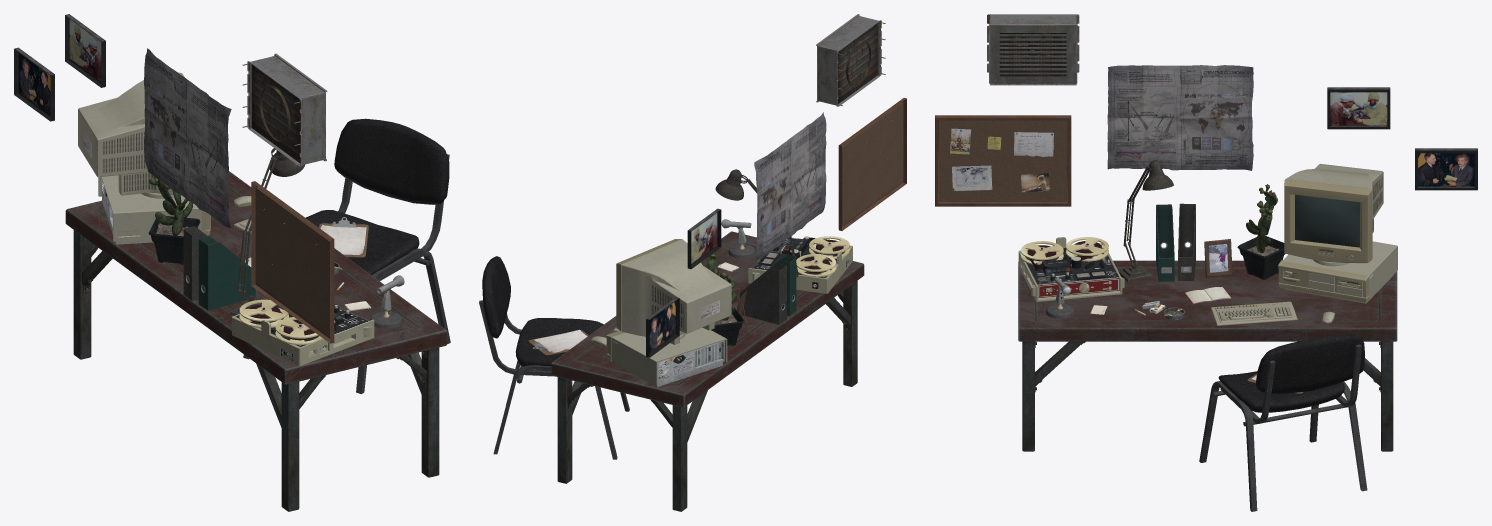
The model's file is room.glb.
3 renders of one model, left to right at view 1: azimuth 30°, elevation 25°; view 2: azimuth 150°, elevation 25°; view 3: azimuth 270°, elevation 25°, orthographic. The views are drawn at different scales.
Parts seen in each view (by area): view 1: Table_Rough_32, Chair_51, Poster_Crumpled_45, PinBoard_24, Vent_44, Monitor_6, TapeRecorder_33, Computer_5, FileBox_Green_8, PhotoFrame2_46, PhotoFrame1_47, FileBox_Black_7 (+5 smaller); view 2: Table_Rough_32, Monitor_6, Poster_Crumpled_45, PinBoard_24, Chair_51, Computer_5, Vent_44, TapeRecorder_33, FileBox_Black_7, PhotoFrame1_47, PhotoFrame2_46, FileBox_Green_8 (+4 smaller); view 3: Table_Rough_32, Poster_Crumpled_45, Chair_51, PinBoard_24, Monitor_6, TapeRecorder_33, Computer_5, PhotoFrame1_47, PhotoFrame2_46, Vent_44, Vent_Cover_Frame_43, Vent_Cover_39 (+11 smaller).
Part boxes in pixels (x1,y1,x2,y2): Table_Rough_32: (65,171,447,511); Chair_51: (243,118,450,393); Poster_Crumpled_45: (144,48,231,228); PinBoard_24: (251,181,334,343); Vent_44: (247,53,327,166); Monitor_6: (78,72,184,198); TapeRecorder_33: (232,299,374,366); Computer_5: (98,175,210,244); FileBox_Green_8: (198,235,255,310); PhotoFrame2_46: (14,47,54,121); PhotoFrame1_47: (65,14,105,87); FileBox_Black_7: (183,226,206,300); Table_Rough_32: (551,231,864,511); Monitor_6: (616,239,731,344); Poster_Crumpled_45: (754,112,826,260); PinBoard_24: (838,98,906,230); Chair_51: (479,256,629,459); Computer_5: (605,327,727,386); Vent_44: (816,14,881,106); TapeRecorder_33: (748,236,852,293); FileBox_Black_7: (740,263,786,324); PhotoFrame1_47: (687,208,721,269); PhotoFrame2_46: (646,297,679,357); FileBox_Green_8: (751,255,796,316); Table_Rough_32: (1018,260,1397,451); Poster_Crumpled_45: (1107,65,1253,170); Chair_51: (1199,333,1367,511); PinBoard_24: (935,115,1071,206); Monitor_6: (1284,163,1383,266); TapeRecorder_33: (1018,237,1124,301); Computer_5: (1278,241,1397,303); PhotoFrame1_47: (1327,87,1390,129); PhotoFrame2_46: (1415,148,1477,190); Vent_44: (987,14,1079,85); Vent_Cover_Frame_43: (990,26,1075,83); Vent_Cover_39: (999,34,1066,74).
Size of the model in its own units: 1.72 by 2.18 by 2.89.
Materials: 14 (14 with a texture image).
